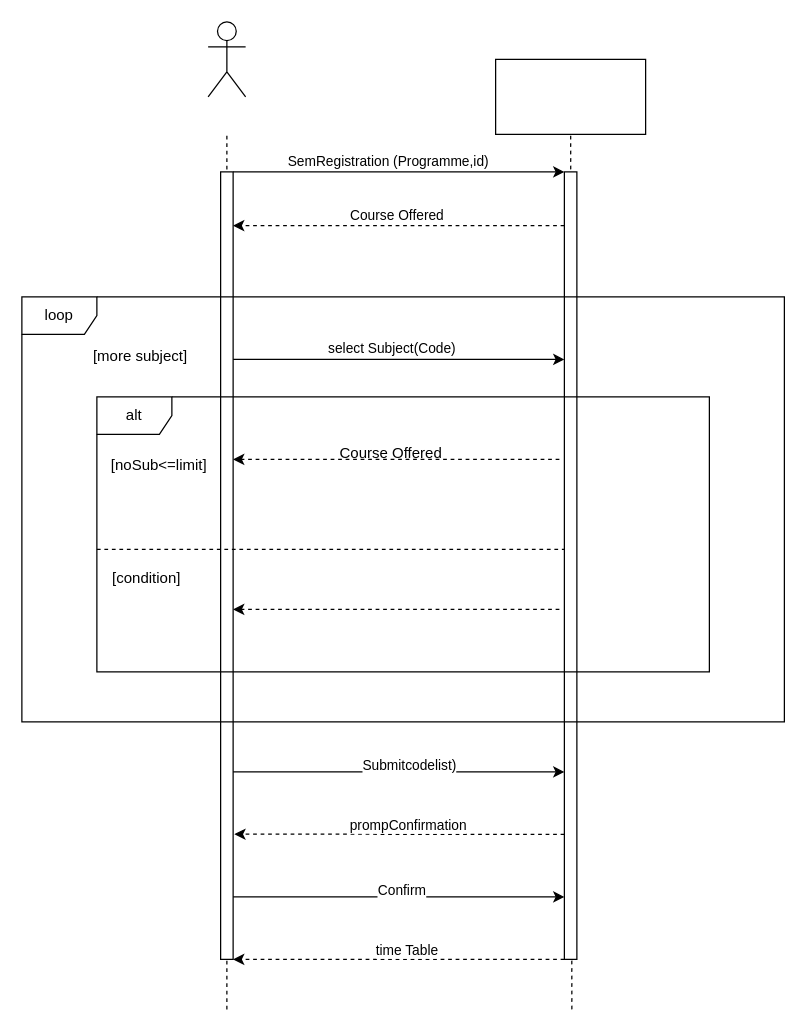
Some shapes in this 806 by 1033 pixel diagram are drawn without their labels. The centre of each missing label's shape, as x and y in pixels:
":Object" goes at point (570, 96).
"Student" goes at point (226, 59).
